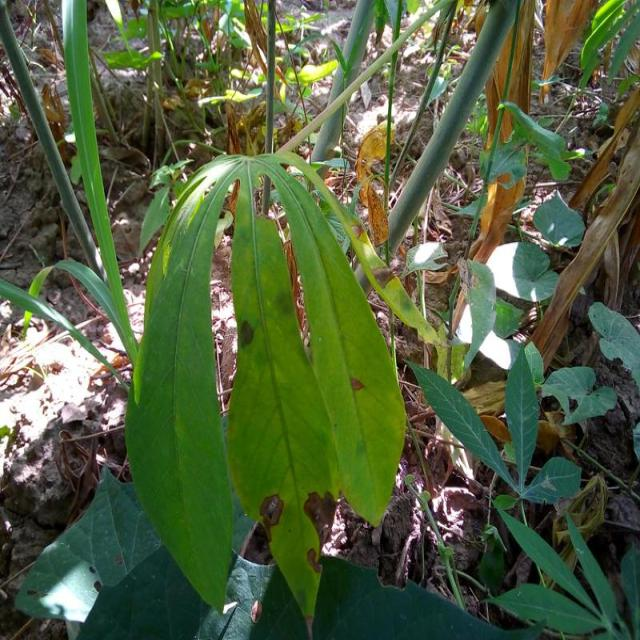cassava leaf: (124, 150, 408, 621)
